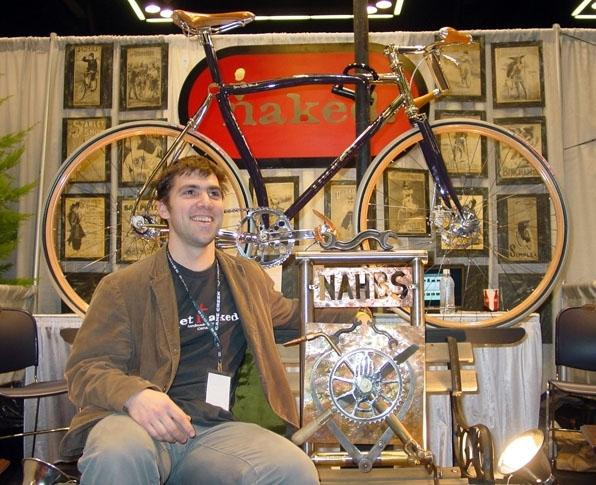non-vehicle: (41, 7, 571, 336), (73, 70, 97, 103), (459, 60, 472, 88)
